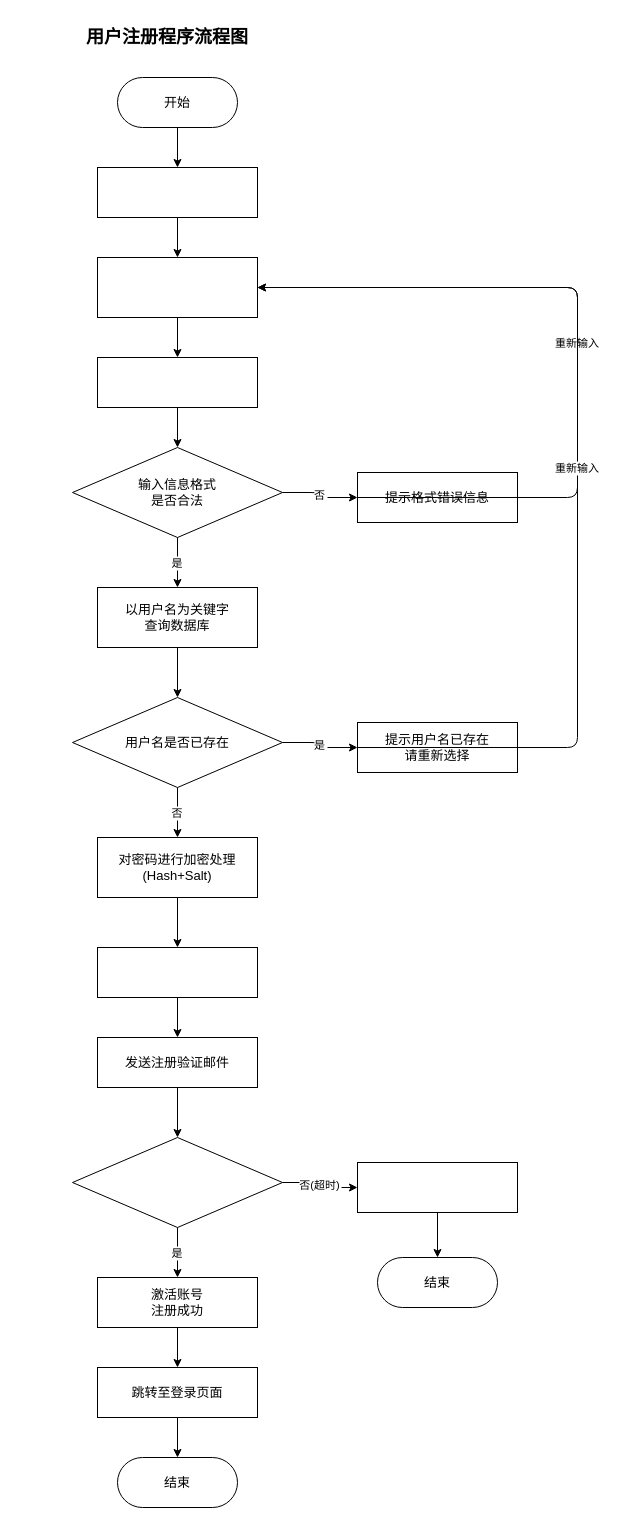
The diagram is 617 pixels wide and 1525 high, and some of its shapes have lost their labels. The box of each missing label's shape, as (x1, y1, x2, y2) in pixels:
将用户信息存入数据库: (96, 946, 258, 998)
显示注册界面: (96, 166, 258, 218)
点击注册按钮: (96, 356, 258, 408)
用户是否完成 邮件验证: (72, 1136, 282, 1228)
输入注册信息 (用户名/密码/邮箱等): (96, 256, 258, 318)
验证超时 删除临时账号: (356, 1162, 518, 1212)
